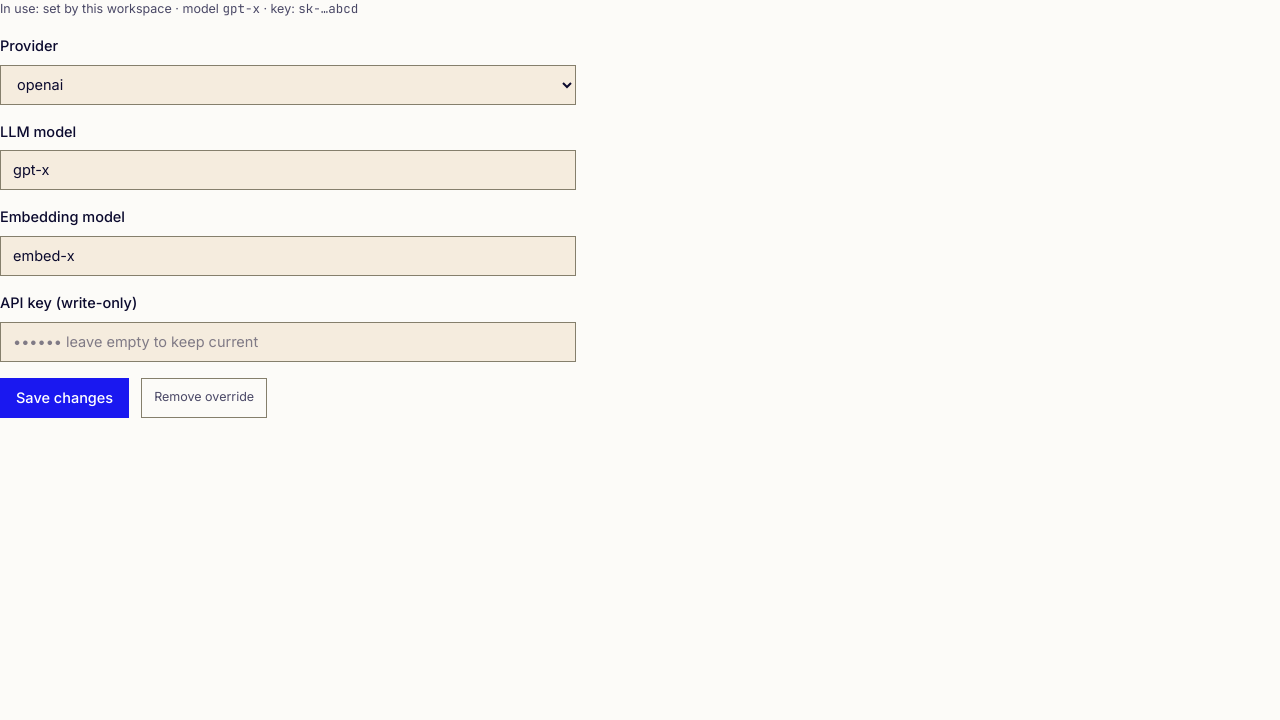
Test case: removes the workspace override with a DELETE, only after the dialog is confirmed
Click the button "Remove override": click(204, 398) x1=141 y1=378 x2=267 y2=418
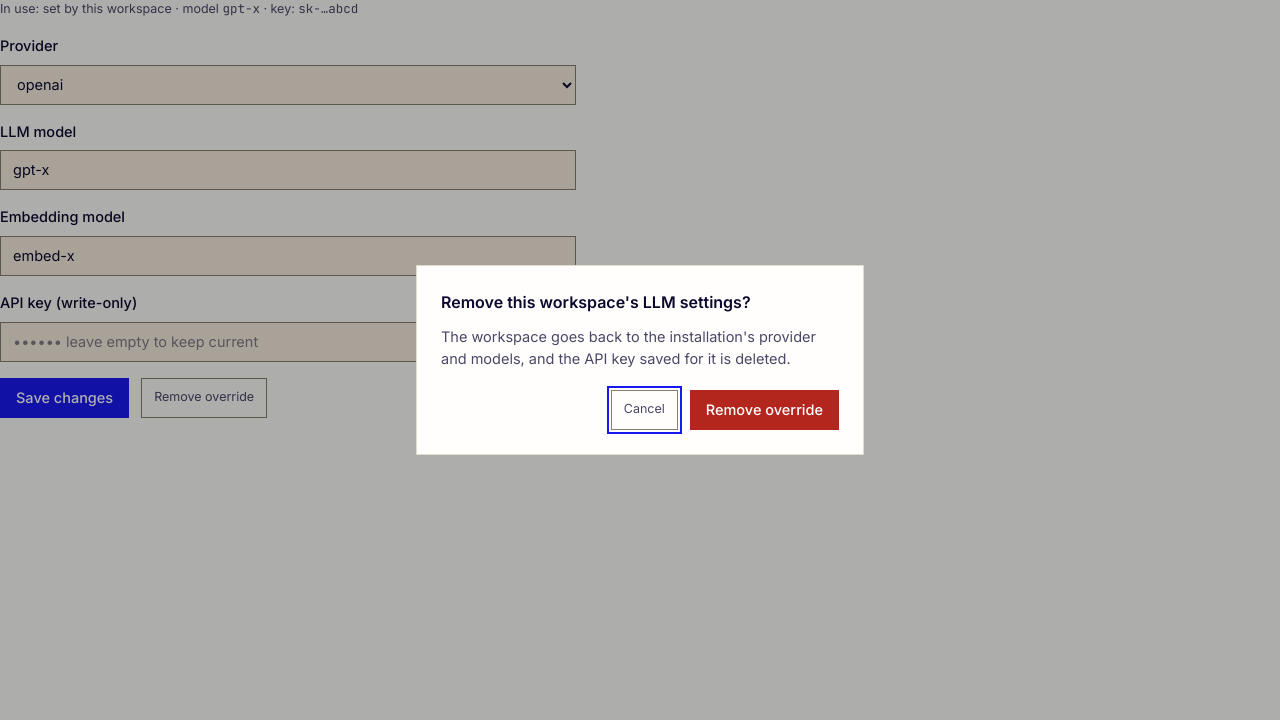
Click the button "Cancel": click(644, 410) x1=611 y1=390 x2=678 y2=430
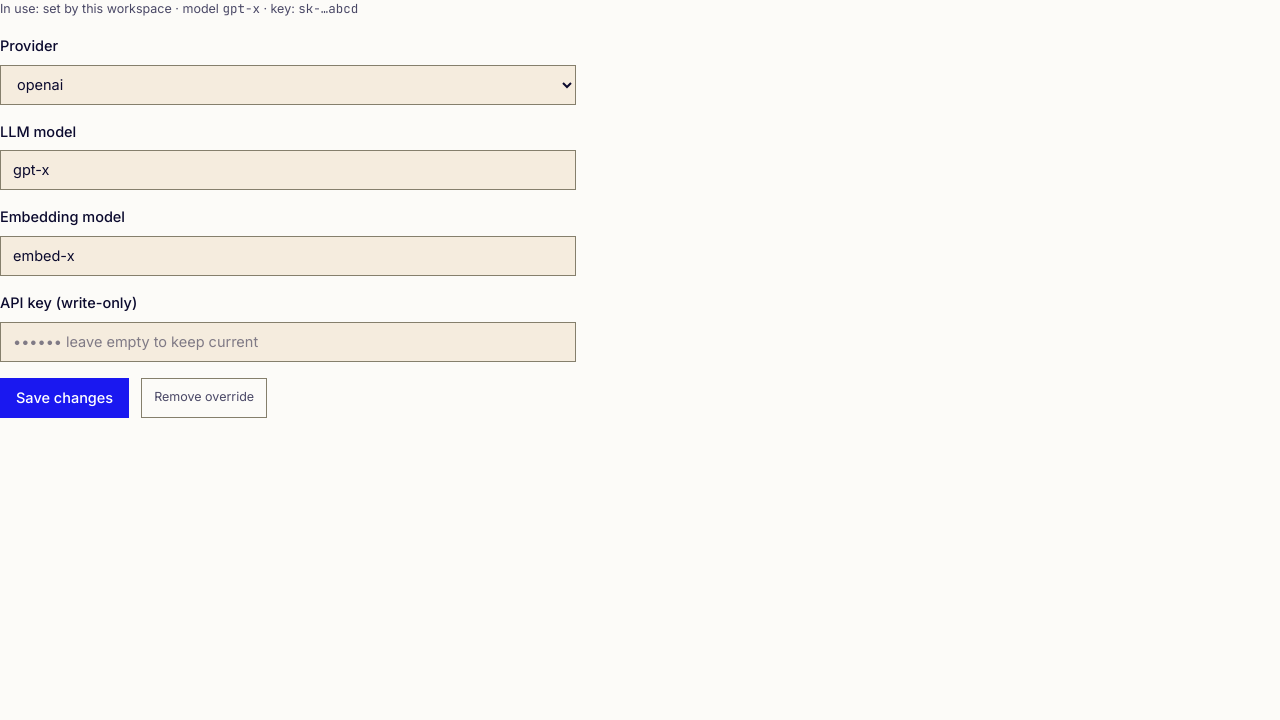
Expected: the dialog is gone
Click the button "Remove override": click(204, 398) x1=141 y1=378 x2=267 y2=418
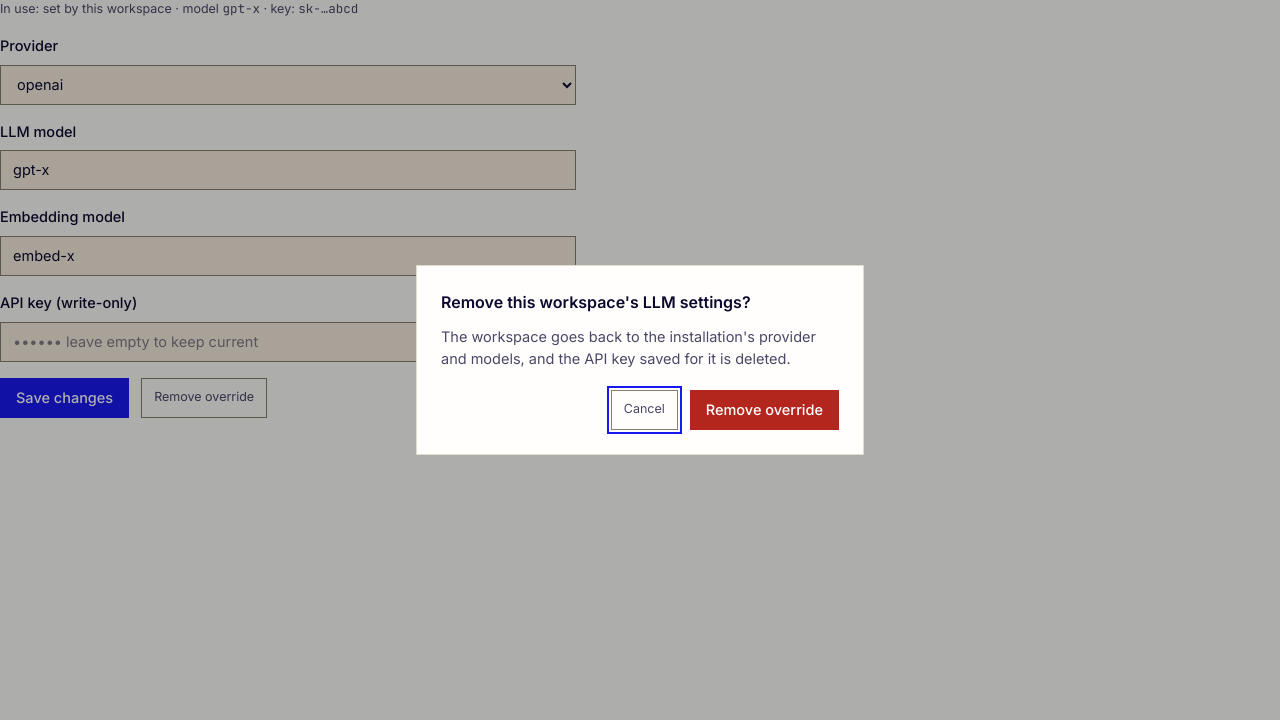
Click the button "Remove override": click(764, 410) x1=690 y1=390 x2=839 y2=430
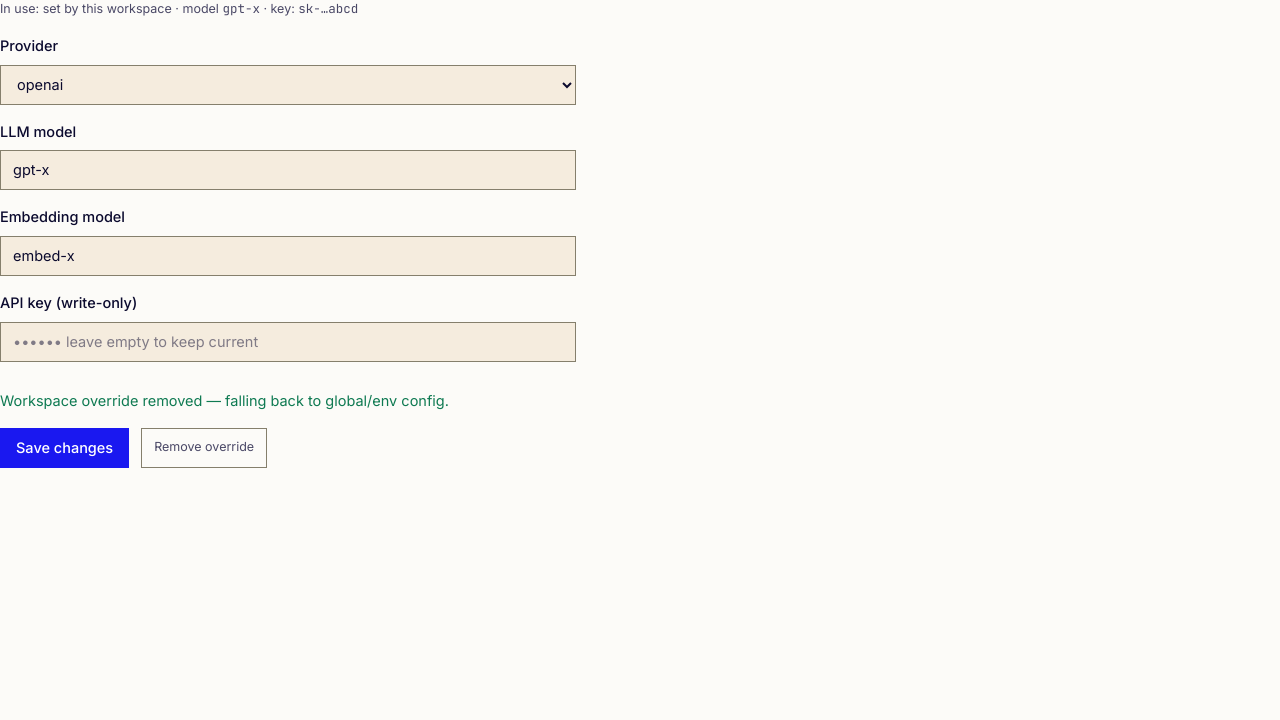
Expected: the dialog is gone
Expected: the message shows "Workspace override removed", x1=0 y1=392 x2=449 y2=409
